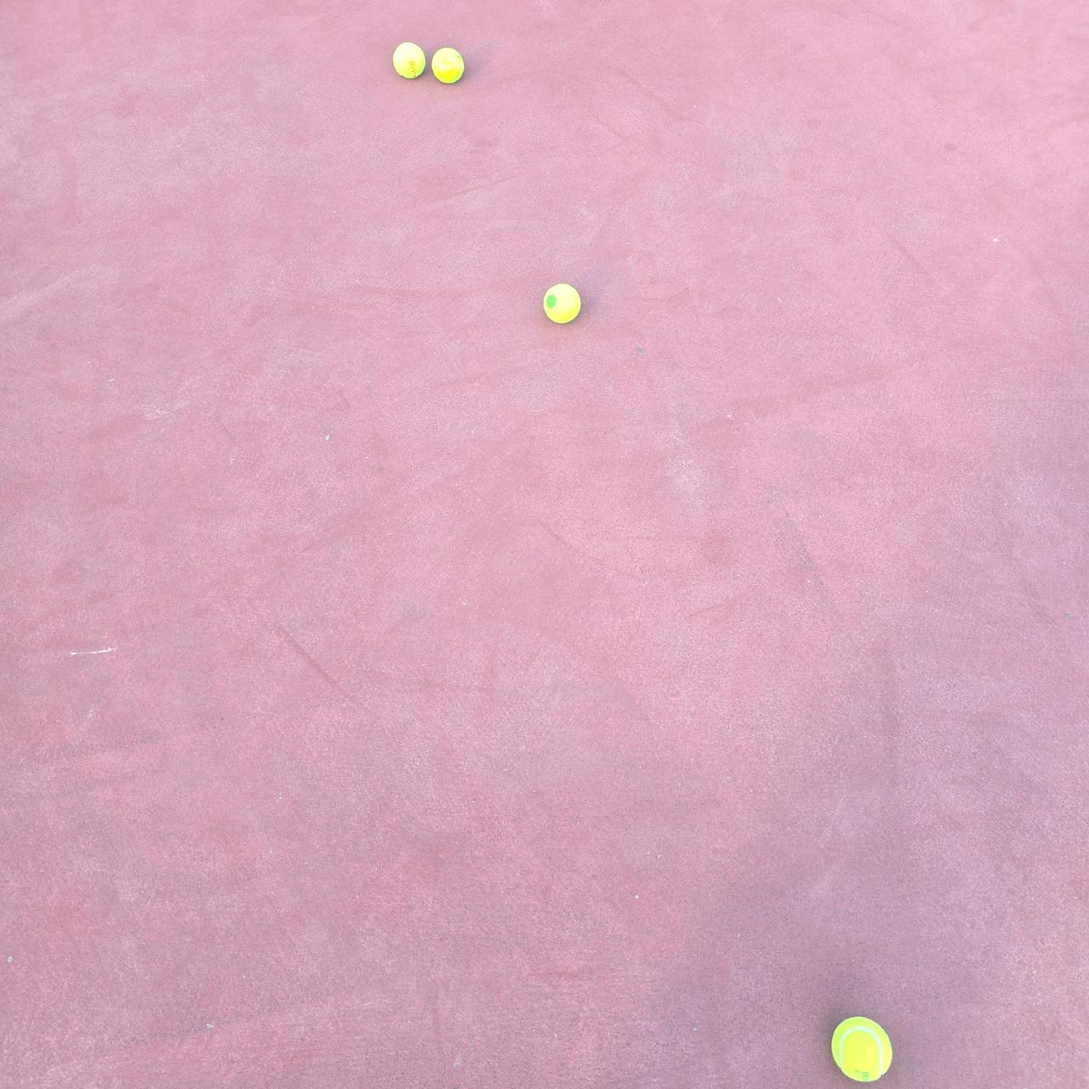tennis-ball: (830, 1016, 893, 1083), (543, 281, 583, 324), (431, 45, 467, 84), (393, 40, 427, 79)
